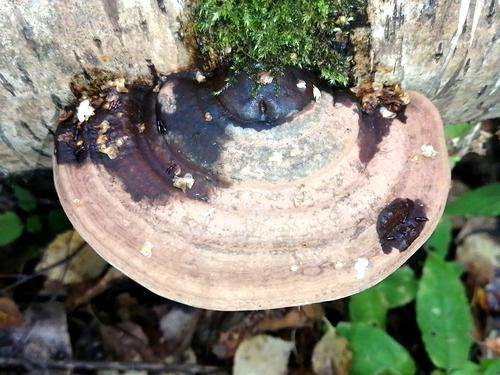Ganoderma - Fruit Body: (47, 74, 457, 316)
